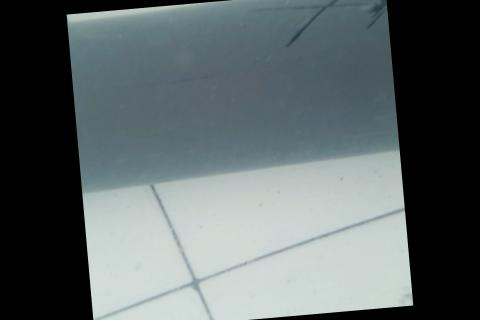keretakan: (248, 0, 390, 52)
